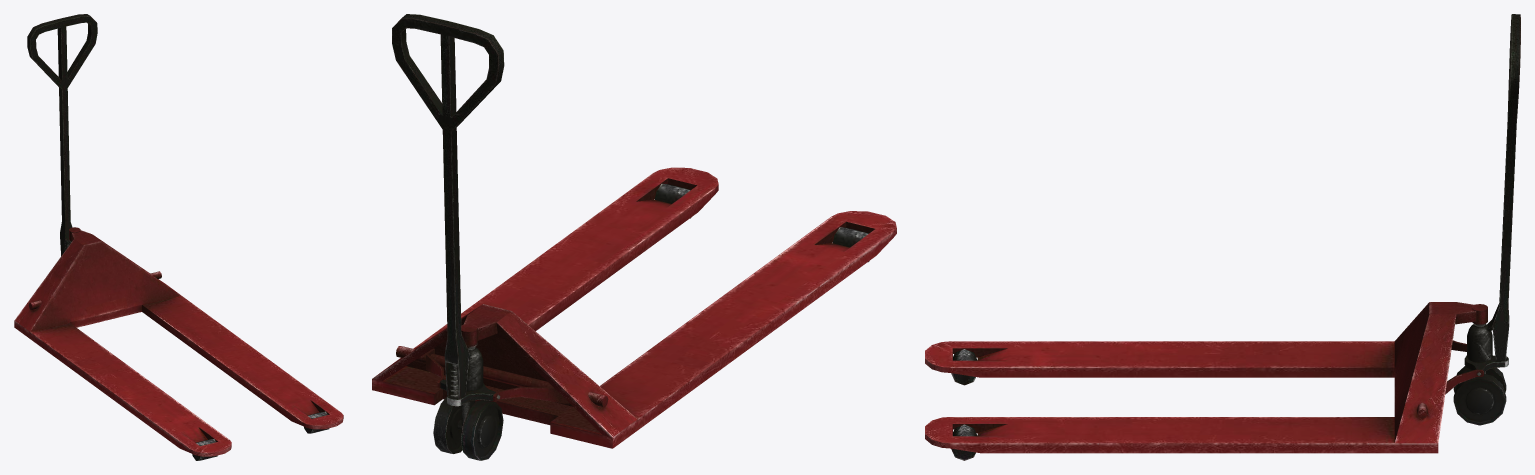
File: palletjack.FBX
3 renders of one model, left to right at view 1: azimuth 30°, elevation 25°; view 2: azimuth 150°, elevation 25°; view 3: azimuth 270°, elevation 25°, orthographic. The views are drawn at different scales.
Parts seen in each view (by area): view 1: Box002; view 2: Box002; view 3: Box002.
Part boxes in pixels (<box>): Box002: <box>14,14,343,460</box>; Box002: <box>372,14,896,460</box>; Box002: <box>925,14,1520,460</box>.
Bounding box in the file's own units: 68.63 × 122 × 169.
1 material, 1 textured.
